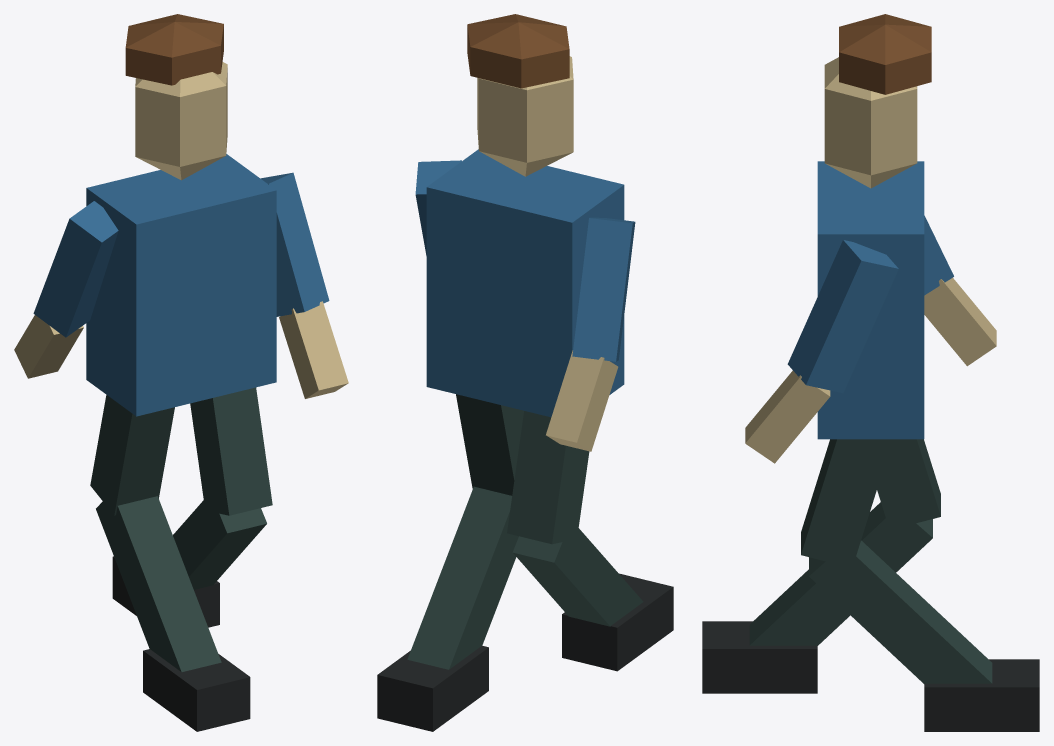
The model's file is TownWalker1.obj.
The picture shows the model from 3 angles, left to right: view 1: azimuth 30°, elevation 25°; view 2: azimuth 150°, elevation 25°; view 3: azimuth 270°, elevation 25°; orthographic projection. The views are drawn at different scales.
Visible parts, largest first — view 1: TownWalker1; view 2: TownWalker1; view 3: TownWalker1.
Part boxes in pixels (<box>): TownWalker1: <box>14,14,348,731</box>; TownWalker1: <box>377,14,673,731</box>; TownWalker1: <box>702,14,1039,731</box>.
Bounding box in the file's own units: 0.7047 × 1.81 × 0.82.
1 material, 1 textured.
